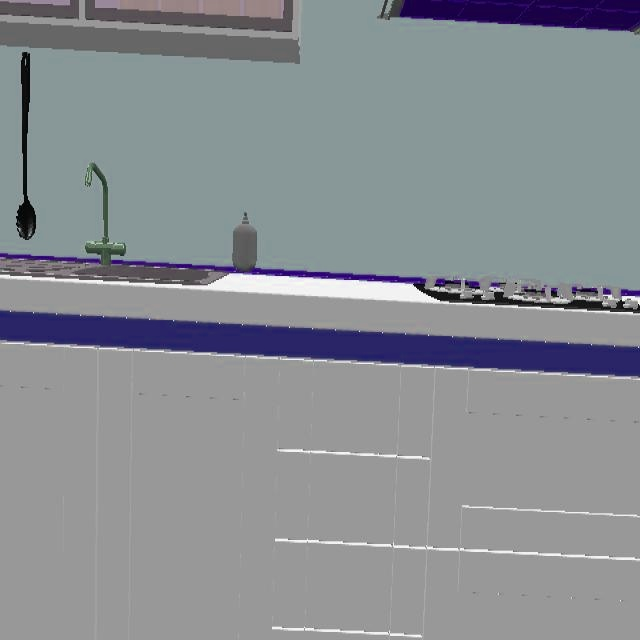cabinet: (0, 342, 640, 638)
countertop: (0, 273, 640, 376)
sink: (0, 163, 226, 284)
stove: (415, 278, 639, 311)
